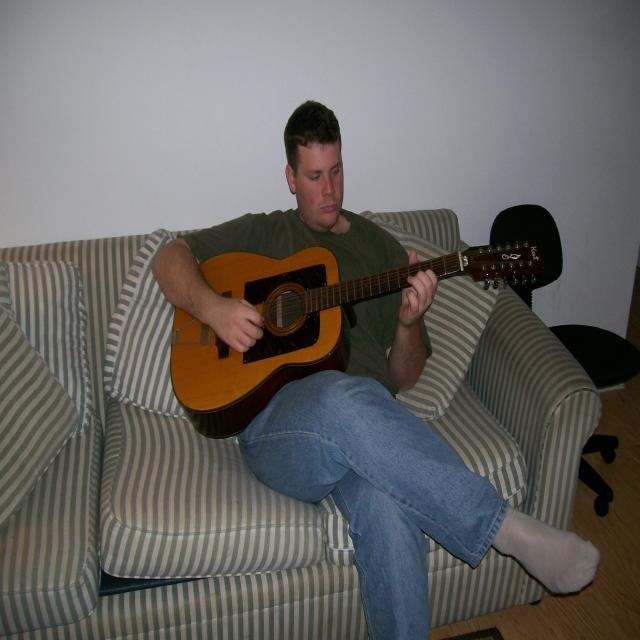guitar: (170, 239, 543, 438)
